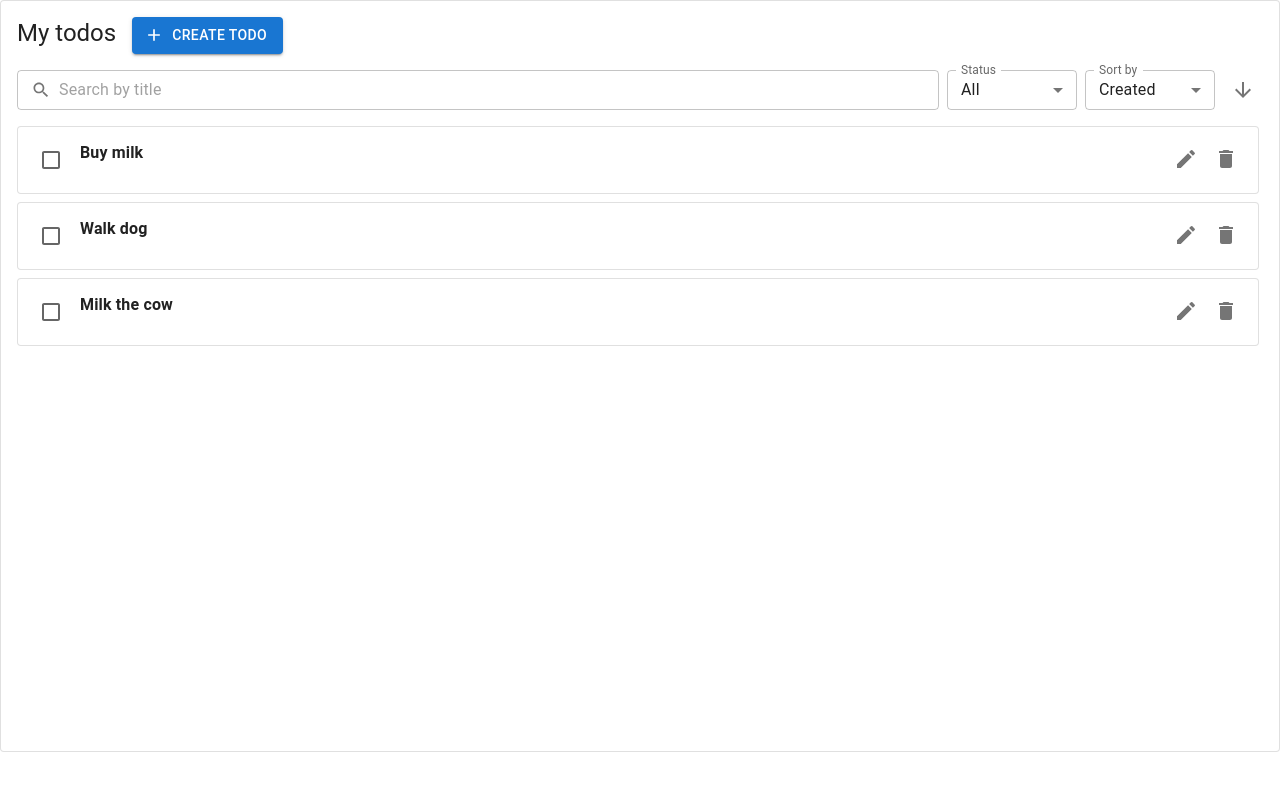
TodoComponent › search › shows the empty state when nothing matches
Type "zzz" into the field with placeholder "Search by title" at (499, 90), box [59,70,939,110]
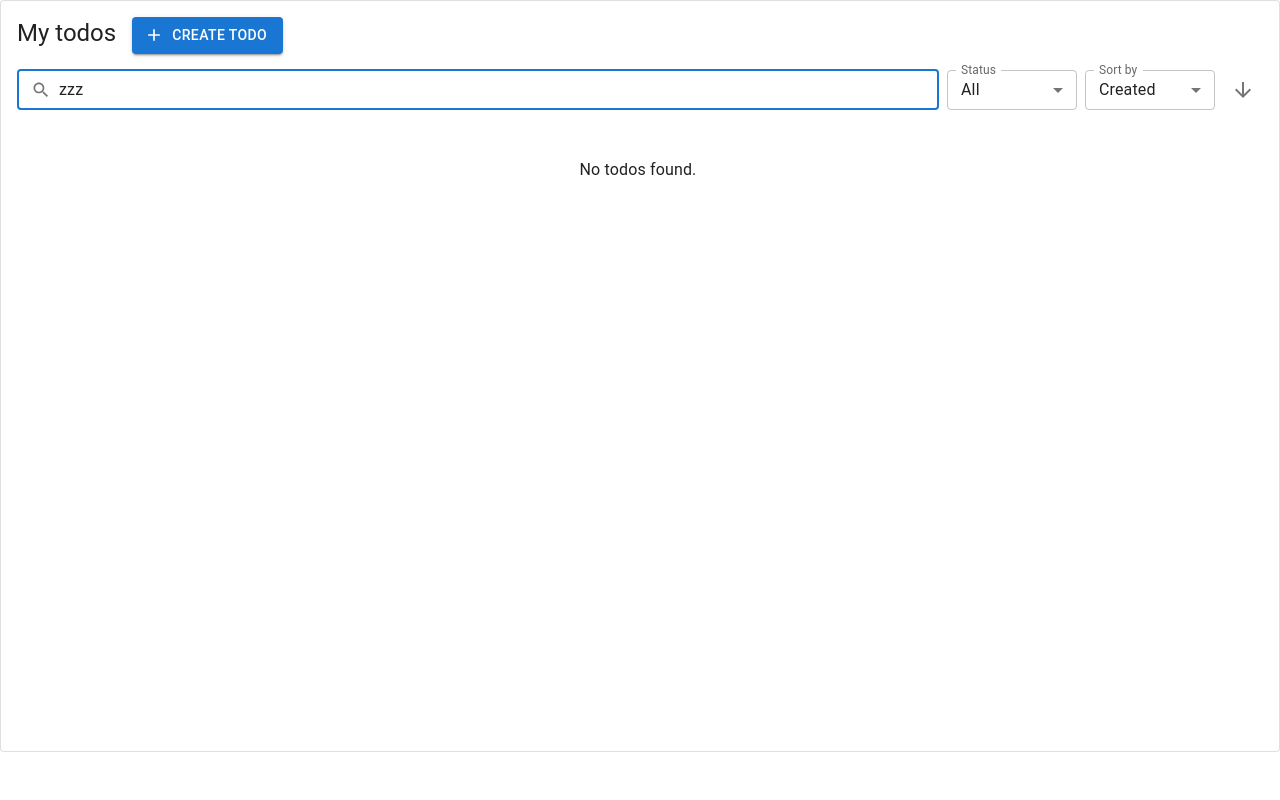
Now the text "No todos found." is shown, box [580,160,696,178]
